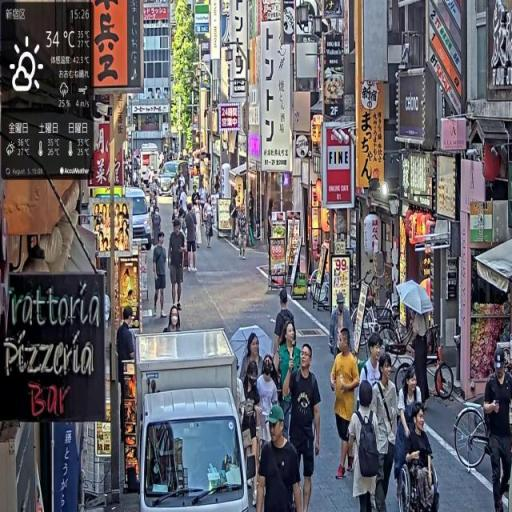person: (286, 340, 323, 512), (347, 380, 384, 512), (259, 404, 303, 512), (331, 327, 361, 482), (371, 354, 400, 512), (484, 351, 512, 512), (168, 220, 187, 313), (152, 231, 170, 320), (183, 201, 201, 275), (205, 198, 216, 251)
